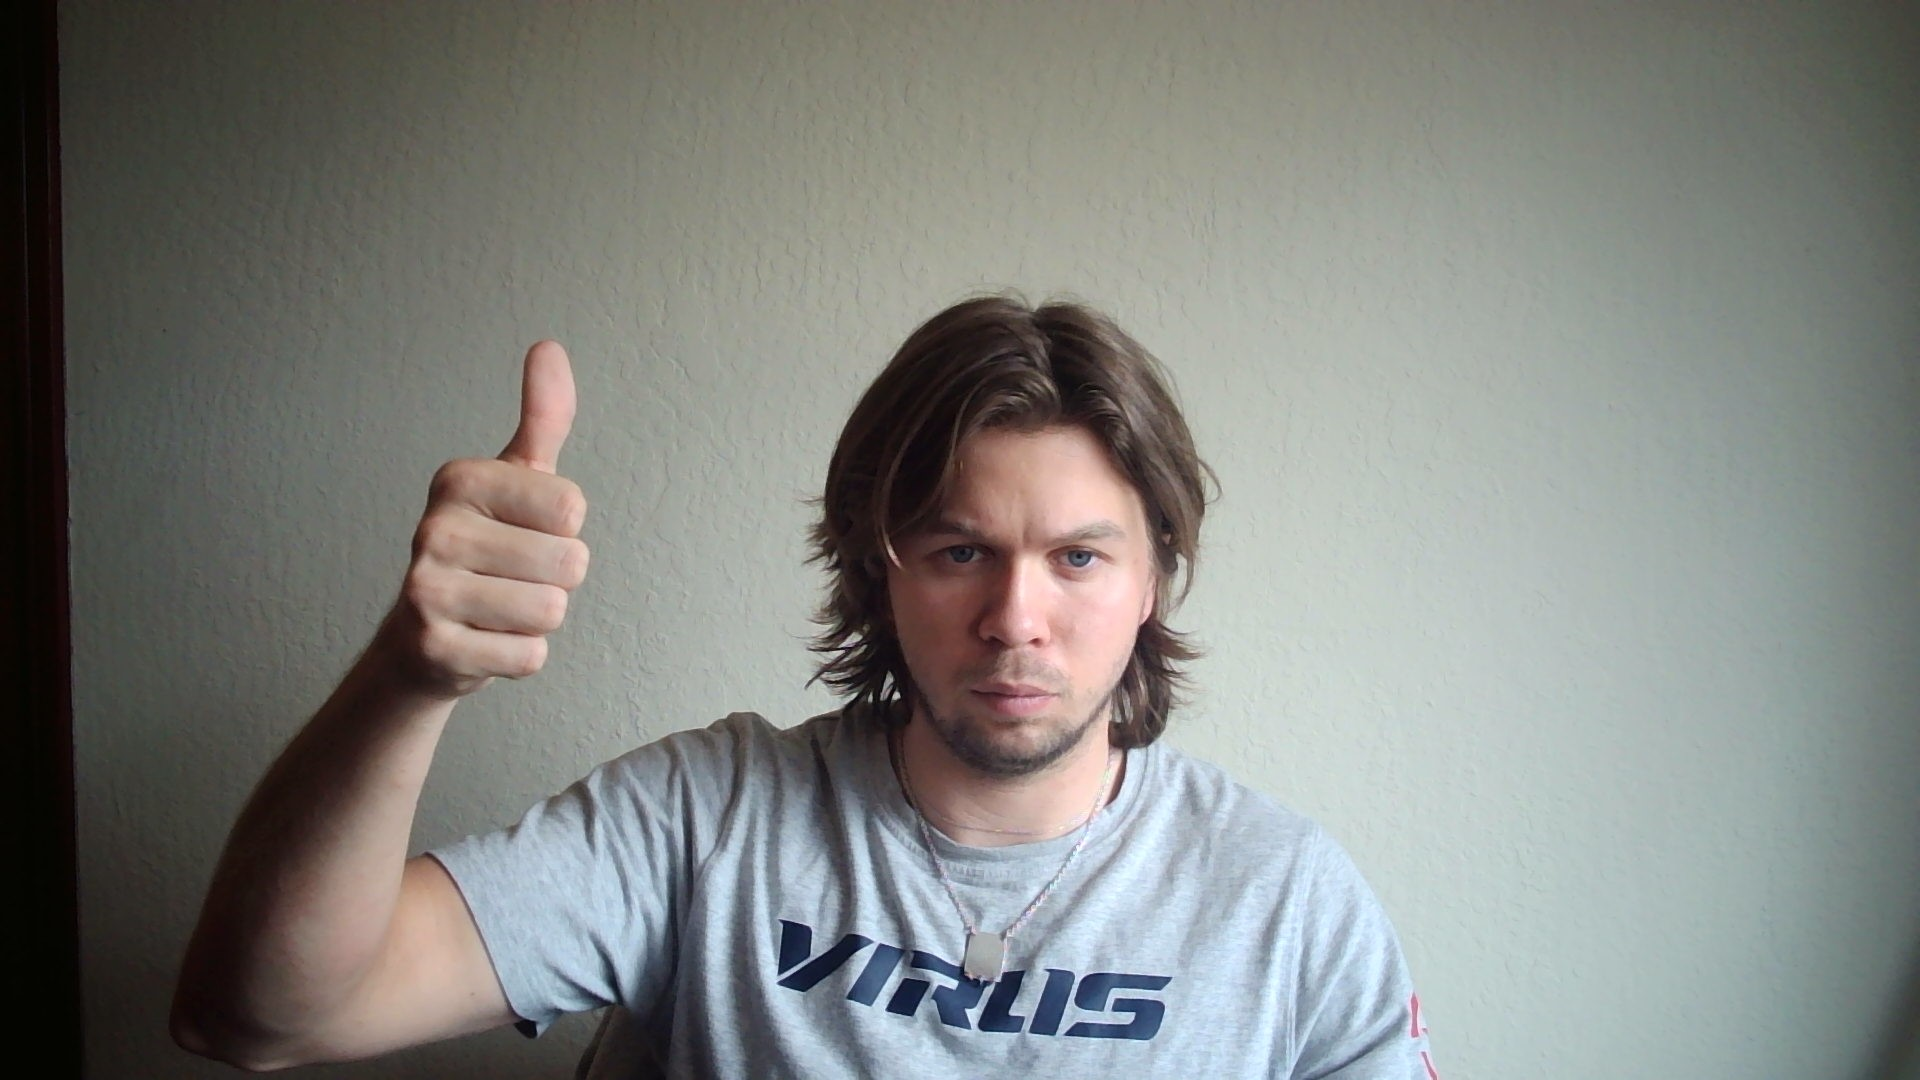good: (404, 340, 589, 695)
